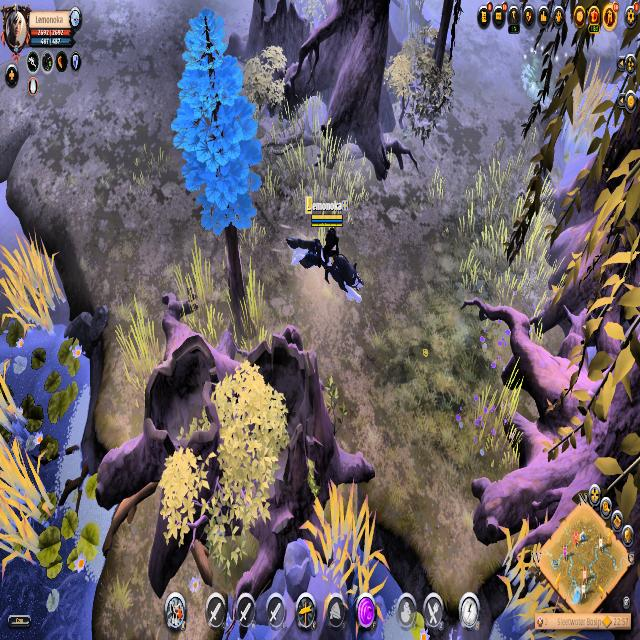wood tier 4: (171, 6, 265, 242)
